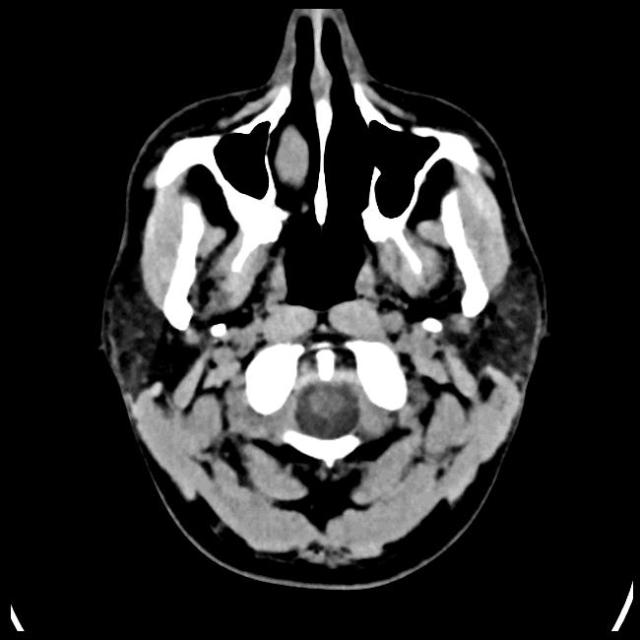lesion: (96, 8, 552, 583)
